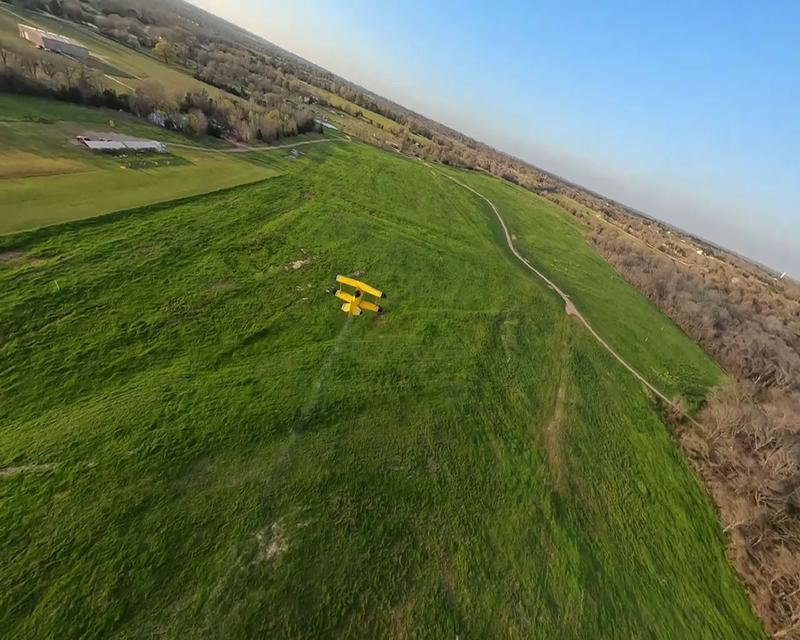UAV: (332, 272, 387, 316)
